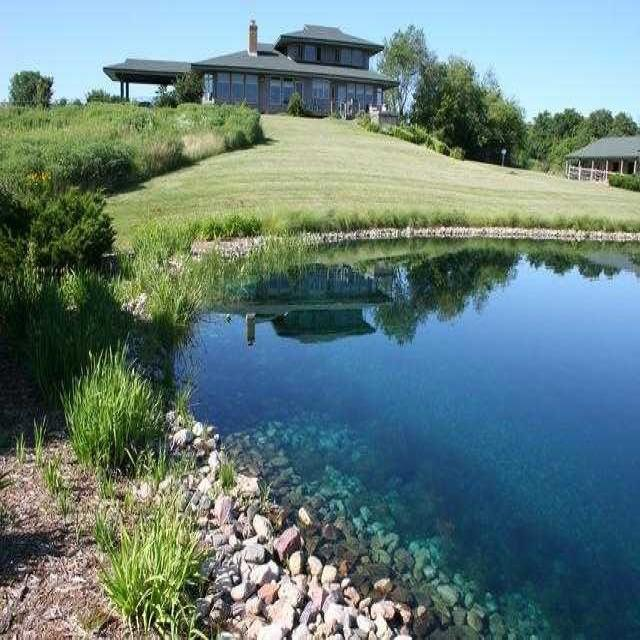Ponds: (127, 229, 639, 640)
